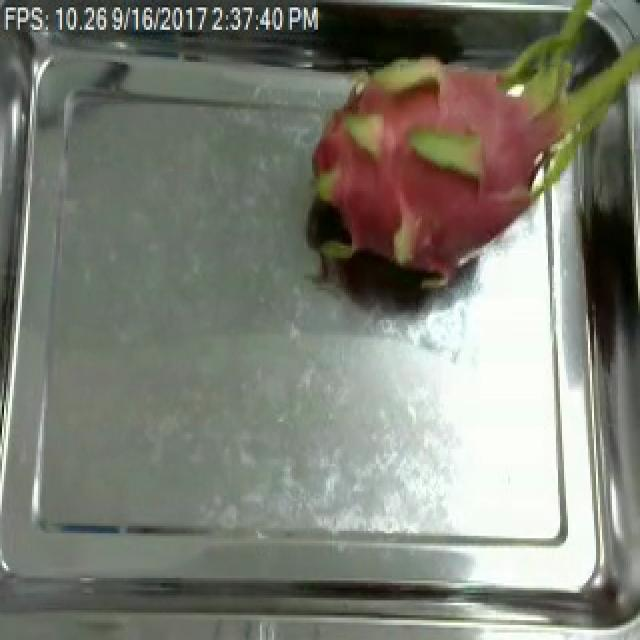fruit: (282, 0, 638, 325)
